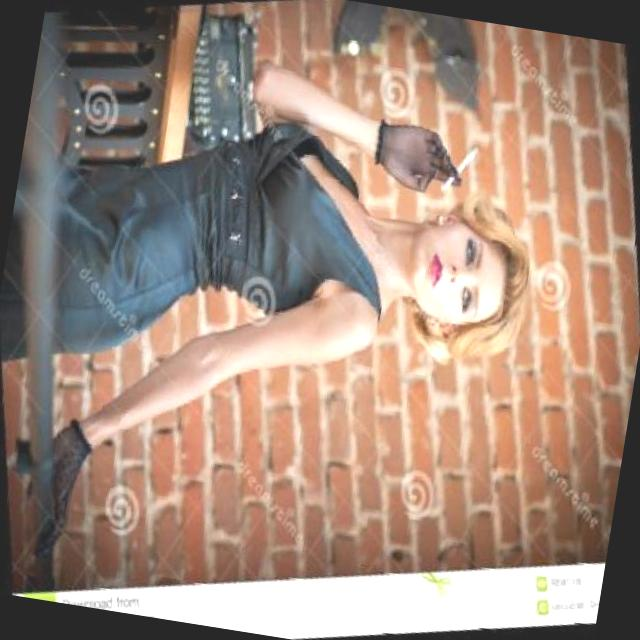cigarette: (431, 140, 490, 203)
